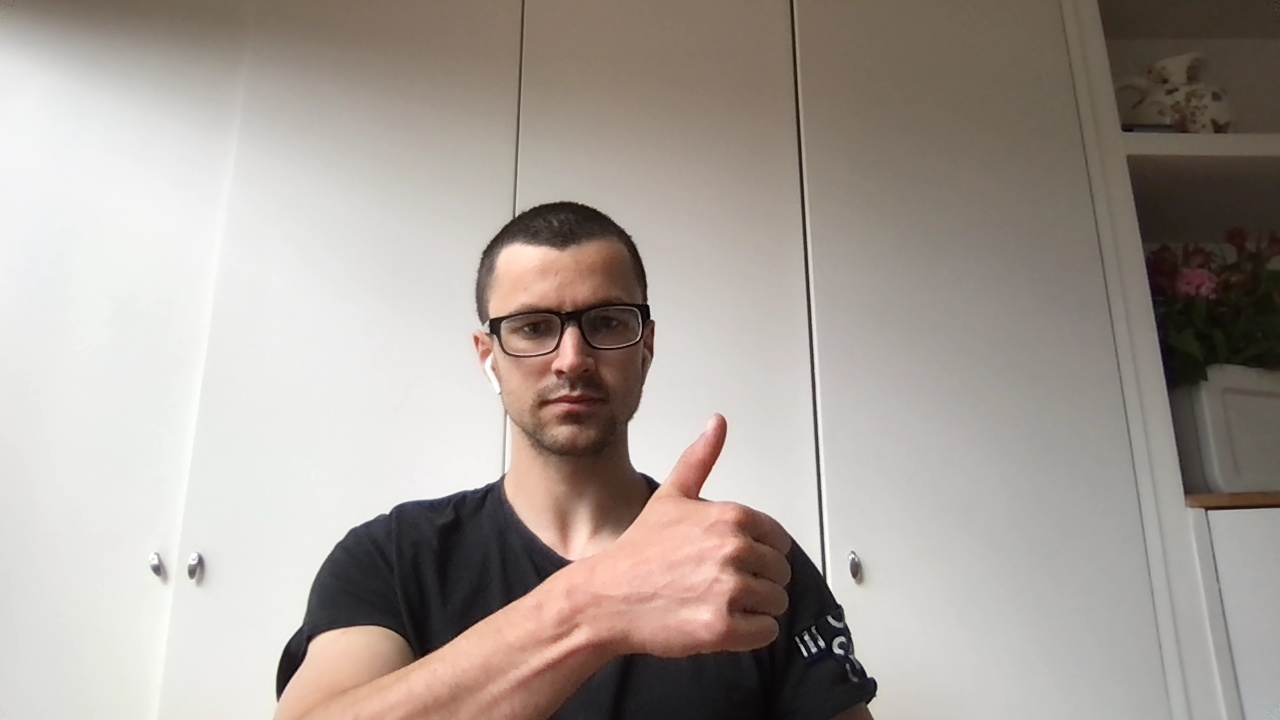thumbUp: (610, 412, 792, 657)
